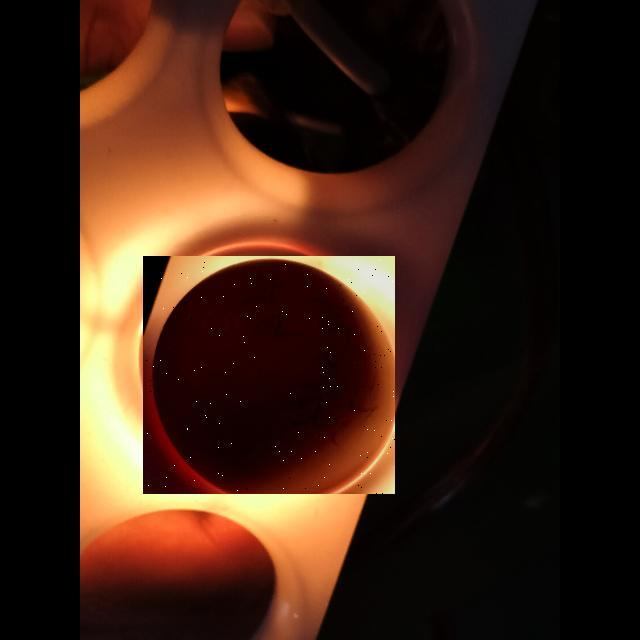Fertile: (143, 256, 395, 494)
